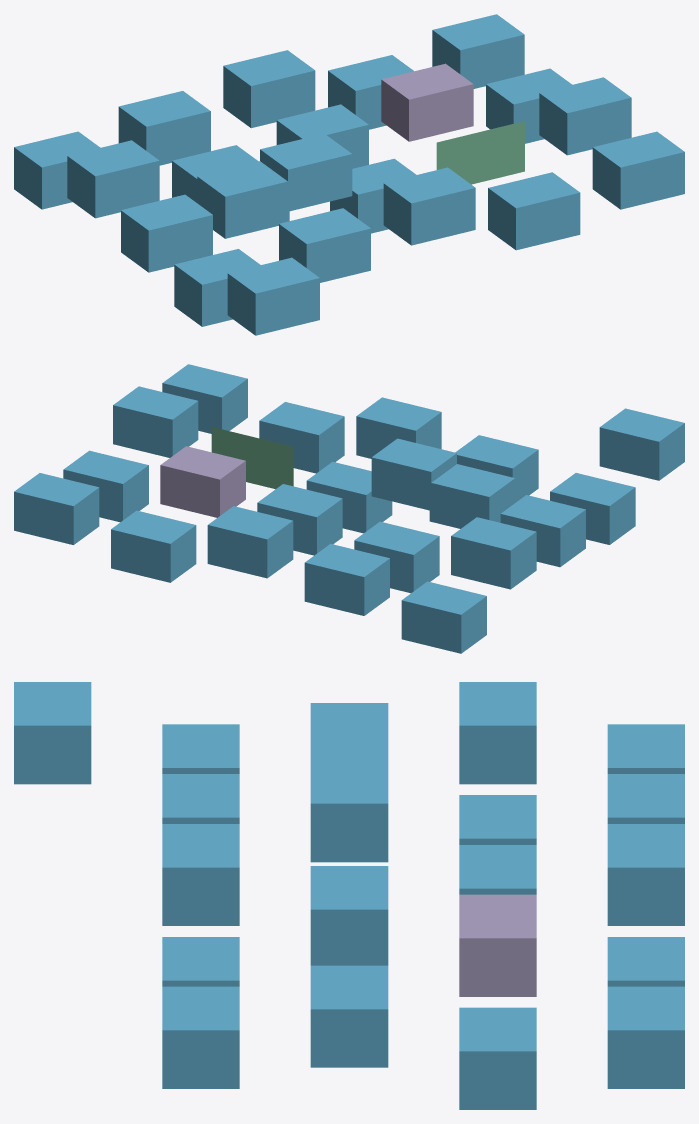
The picture shows the model from 3 angles, top to bottom: view 1: azimuth 30°, elevation 25°; view 2: azimuth 150°, elevation 25°; view 3: azimuth 270°, elevation 25°; orthographic projection. The views are drawn at different scales.
Visible parts, largest first — view 1: n11, n8, n17, n19, n18, n20, n5, n14, n2, n10, n16, n4 (+9 smaller); view 2: n11, n2, n3, n0, n5, n4, n20, n1, n14, n8, n18, n10 (+9 smaller); view 3: n11, n14, n5, n8, n9, n19, n4, n20, n2, n17, n12, n0 (+8 smaller).
Boxes of the visible parts, <box> form: n11: <box>197,133,352,238</box>; n8: <box>381,63,473,141</box>; n17: <box>383,167,475,245</box>; n19: <box>592,131,684,209</box>; n18: <box>488,172,580,250</box>; n20: <box>227,257,319,335</box>; n5: <box>67,140,159,218</box>; n14: <box>539,77,631,155</box>; n2: <box>223,50,315,128</box>; n10: <box>121,194,212,272</box>; n16: <box>279,208,370,282</box>; n4: <box>432,14,524,88</box>; n11: <box>371,438,515,528</box>; n2: <box>207,506,293,578</box>; n3: <box>111,510,196,582</box>; n0: <box>401,581,486,653</box>; n5: <box>451,517,536,589</box>; n4: <box>14,473,99,544</box>; n20: <box>599,408,684,480</box>; n1: <box>304,543,389,615</box>; n14: <box>113,386,198,457</box>; n8: <box>160,446,245,517</box>; n18: <box>259,402,344,473</box>; n10: <box>500,495,585,567</box>; n11: <box>310,734,388,862</box>; n14: <box>310,965,388,1067</box>; n5: <box>459,682,536,784</box>; n8: <box>459,894,536,996</box>; n9: <box>459,1007,536,1109</box>; n19: <box>162,986,239,1088</box>; n4: <box>607,986,684,1088</box>; n20: <box>14,682,91,784</box>; n2: <box>607,824,684,925</box>; n17: <box>162,824,239,925</box>; n12: <box>310,866,388,965</box>; n0: <box>607,724,684,773</box>.
Bounding box in the file's own units: 0.6 × 0.1 × 0.52.
